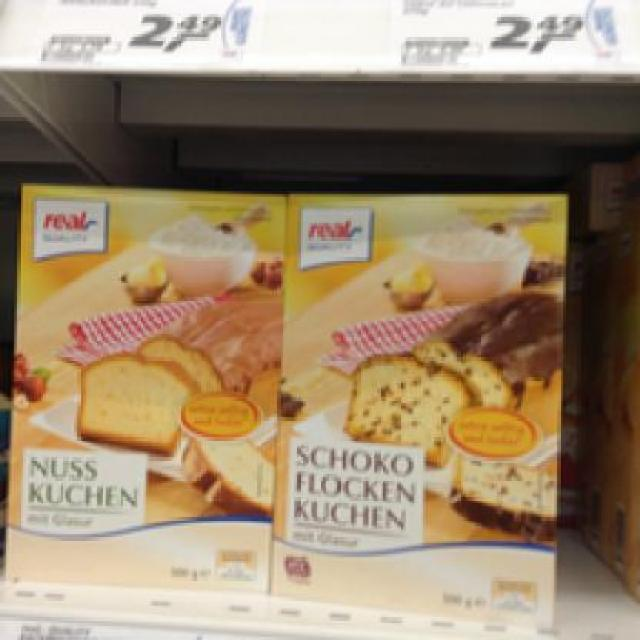Cake: (279, 185, 572, 638), (2, 177, 278, 603)
